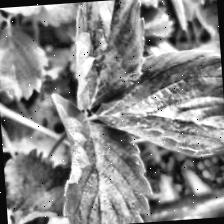Powdery Mildew Leaf: (86, 48, 224, 164), (49, 87, 154, 224), (69, 0, 151, 110)
